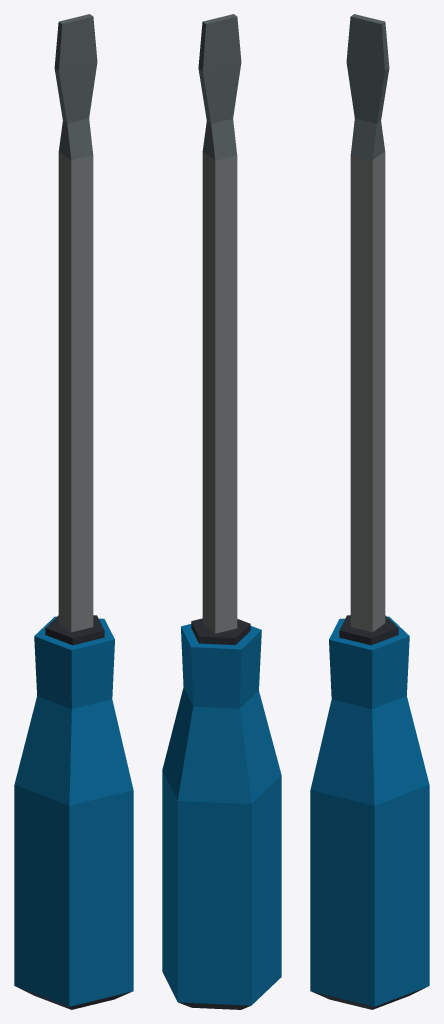
Rendered from SM_Turn-Screw_B.fbx.
3 renders of one model, left to right at view 1: azimuth 30°, elevation 25°; view 2: azimuth 210°, elevation 25°; view 3: azimuth 330°, elevation 25°, orthographic.
Visible parts, largest first — view 1: SM_Turn-Screw_B; view 2: SM_Turn-Screw_B; view 3: SM_Turn-Screw_B.
Part boxes in pixels (x1,y1,x2,y2): SM_Turn-Screw_B: (14, 14, 133, 1009); SM_Turn-Screw_B: (162, 14, 281, 1009); SM_Turn-Screw_B: (310, 14, 429, 1009).
Bounding box in the file's own units: 5.39 × 48.32 × 5.13.
